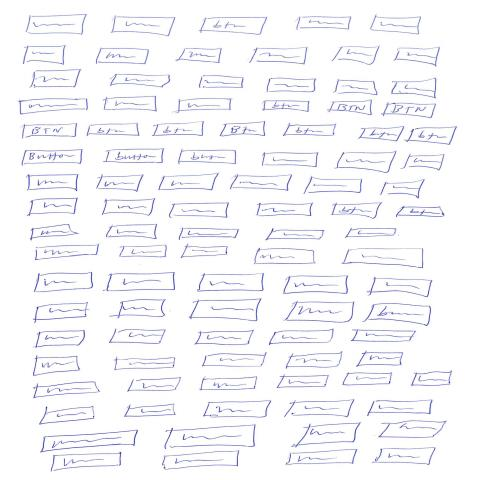Button: (365, 304, 434, 328), (198, 16, 270, 36), (25, 14, 90, 36), (229, 175, 294, 193), (21, 149, 85, 166), (104, 148, 166, 165), (407, 127, 460, 146), (382, 102, 437, 120), (21, 123, 79, 140), (179, 149, 238, 165), (152, 121, 206, 138), (331, 202, 384, 219), (113, 357, 176, 371), (357, 125, 406, 142), (219, 122, 267, 139), (328, 100, 374, 117), (86, 123, 141, 137), (283, 123, 337, 137), (262, 101, 311, 114), (395, 207, 446, 219)
